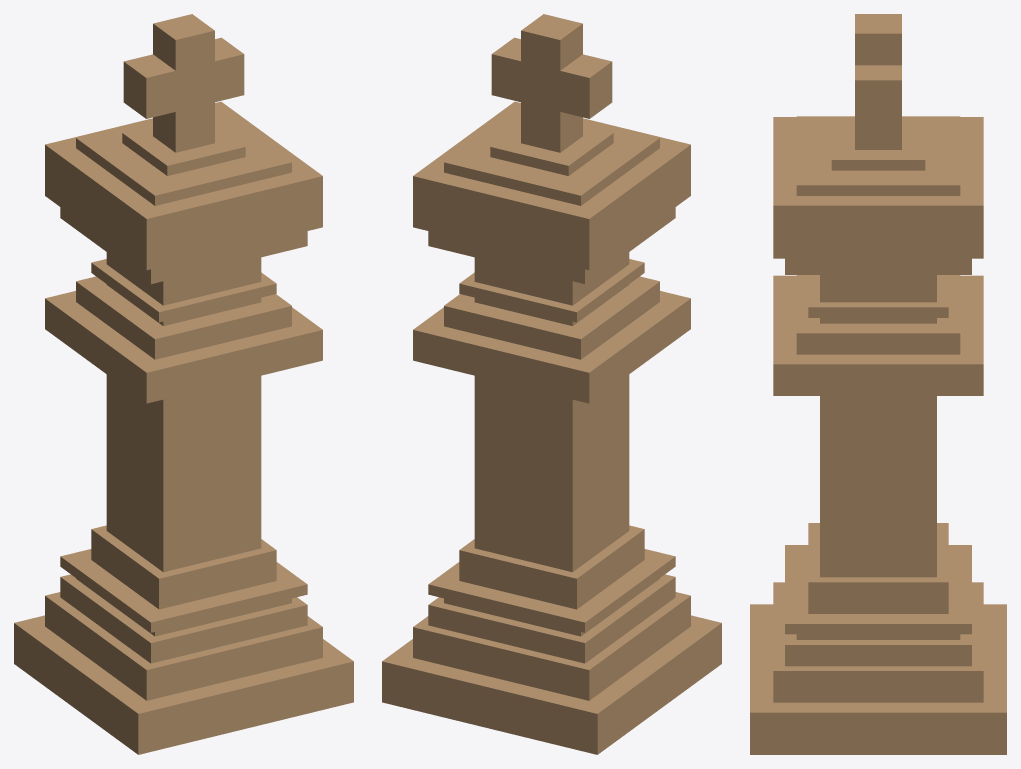
Rendered from white_king.glb.
3 views of the same model, side by side, from view 1: azimuth 30°, elevation 25°; view 2: azimuth 150°, elevation 25°; view 3: azimuth 270°, elevation 25° (orthographic). The views are drawn at different scales.
Visible parts, largest first — view 1: Untitled; view 2: Untitled; view 3: Untitled.
Boxes of the visible parts, x1,y1,x2,y2 form: Untitled: [14, 14, 353, 754]; Untitled: [382, 14, 721, 754]; Untitled: [750, 14, 1006, 754].
Size of the model in its own units: 0.66 by 1.92 by 0.66.
1 material, 1 textured.
